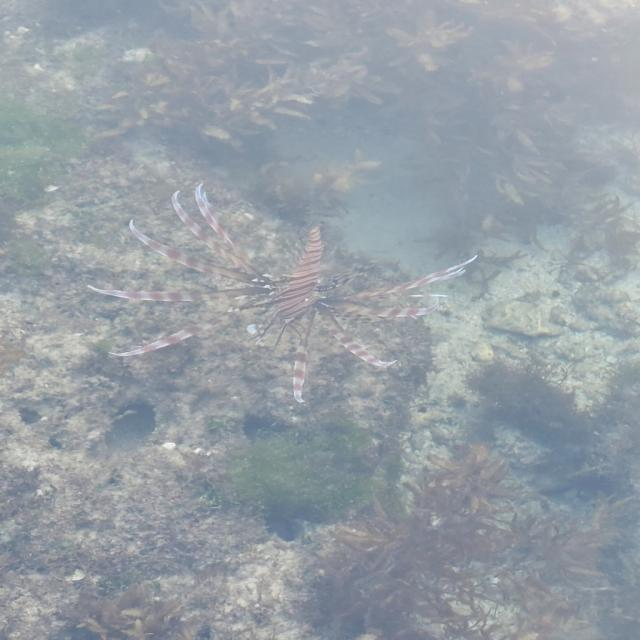Aslan Baligi: (85, 181, 479, 404)
